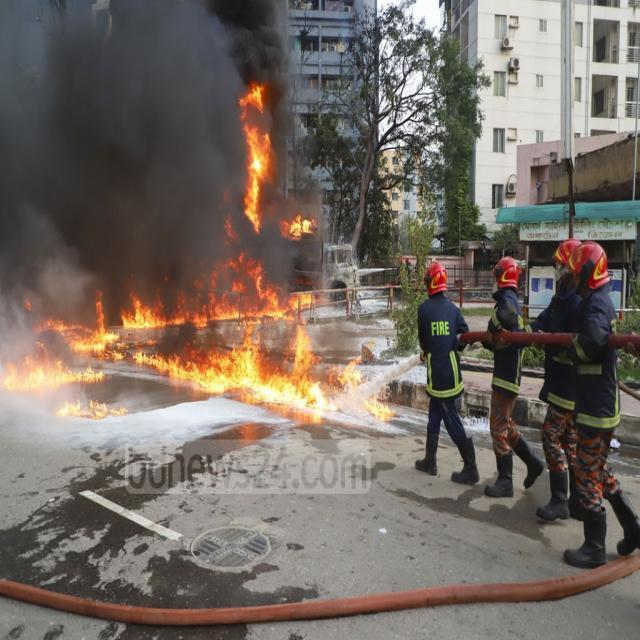Fire: (122, 252, 316, 329), (37, 291, 125, 362), (132, 339, 232, 394), (0, 340, 105, 392), (239, 82, 273, 236), (284, 320, 328, 410), (232, 320, 263, 403), (56, 393, 130, 418), (328, 353, 363, 396), (220, 190, 240, 246), (280, 214, 318, 242), (262, 356, 284, 403), (364, 394, 396, 422), (132, 332, 164, 350), (24, 298, 32, 312)
Smoke: (0, 0, 246, 302), (244, 0, 292, 137), (253, 222, 293, 293), (0, 303, 38, 362), (157, 320, 196, 358), (317, 323, 354, 361), (260, 184, 296, 222), (52, 302, 96, 328), (309, 252, 330, 301), (262, 328, 292, 357), (202, 320, 230, 348)
